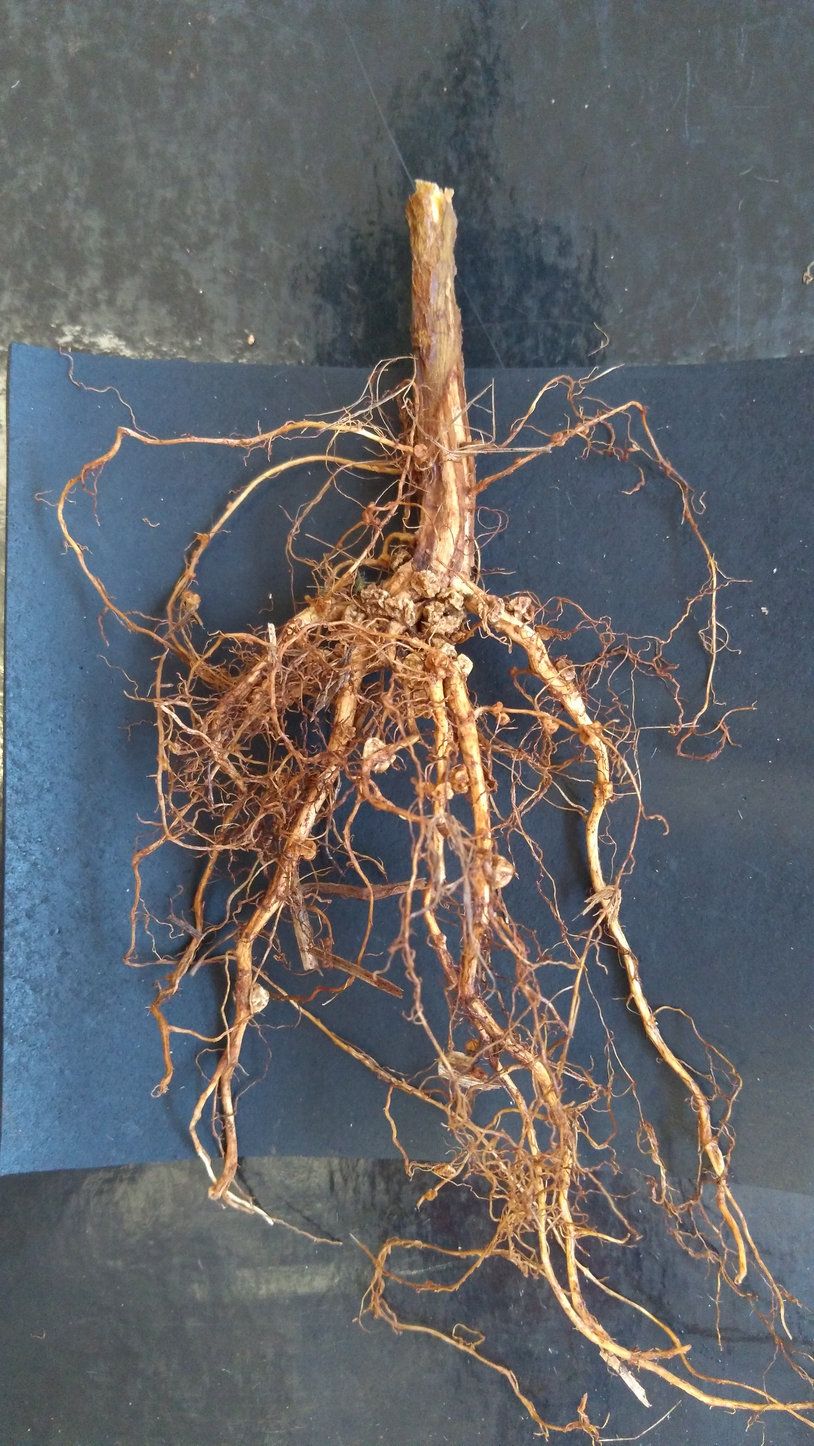nodule: (230, 979, 271, 1018), (361, 735, 399, 775), (382, 591, 418, 627), (486, 851, 517, 892), (476, 592, 505, 625), (447, 760, 471, 798), (410, 569, 441, 598), (360, 580, 390, 608), (437, 587, 468, 612), (426, 614, 460, 636), (339, 603, 367, 628), (402, 652, 425, 682), (419, 598, 446, 623), (430, 1161, 460, 1183), (505, 594, 533, 617), (297, 836, 320, 864), (556, 657, 581, 682), (580, 720, 604, 745), (390, 548, 414, 573), (453, 652, 476, 676), (530, 622, 555, 644), (592, 779, 615, 802), (361, 502, 381, 527), (430, 780, 455, 800), (470, 1064, 492, 1086), (383, 617, 407, 637), (181, 590, 203, 611), (540, 712, 561, 734), (410, 681, 429, 703), (415, 779, 437, 797), (421, 1187, 440, 1207), (437, 641, 457, 659), (413, 443, 432, 461), (463, 1037, 483, 1054), (414, 703, 434, 718), (429, 665, 450, 678), (486, 698, 502, 715), (494, 710, 511, 726), (574, 421, 591, 435), (512, 455, 528, 468), (184, 568, 199, 581), (551, 429, 564, 443), (449, 630, 467, 640), (195, 533, 210, 544), (224, 500, 233, 511), (508, 664, 517, 674)
